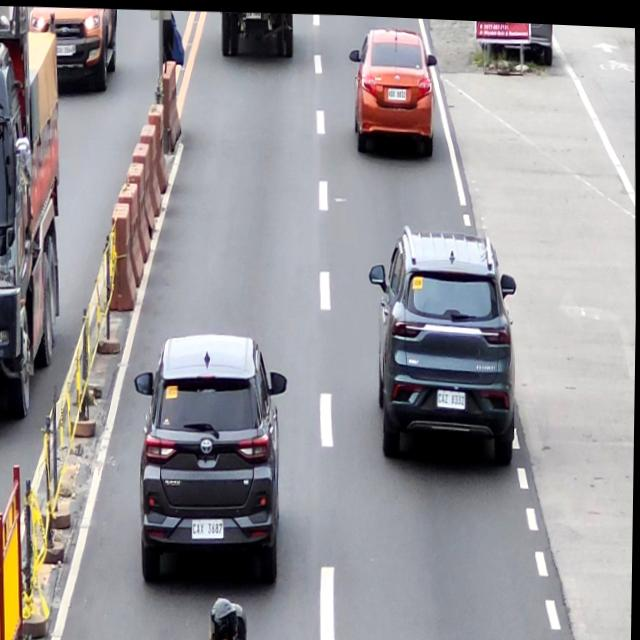Car: (133, 327, 291, 588), (366, 218, 521, 462), (346, 22, 438, 155)
License-Plate: (192, 514, 225, 537), (437, 384, 466, 406), (387, 82, 407, 96)
